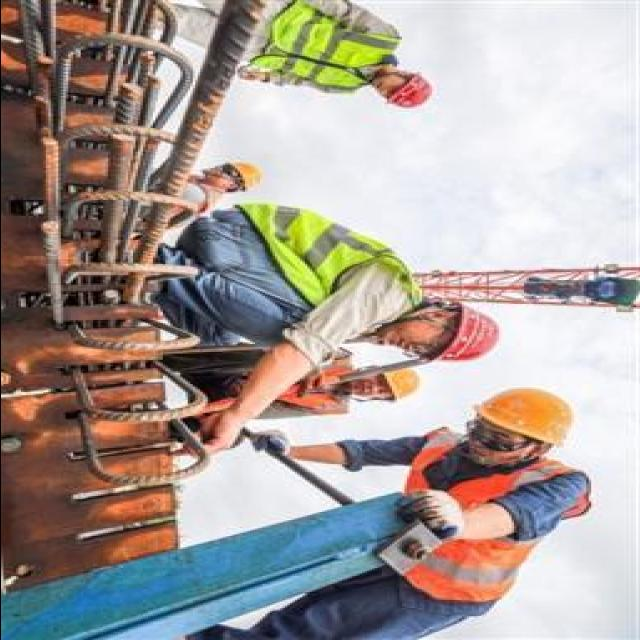helmet: (476, 381, 588, 447), (427, 300, 501, 372), (376, 68, 436, 110), (380, 366, 426, 404)
jacket: (344, 431, 602, 610), (229, 195, 425, 329), (252, 2, 410, 96)
